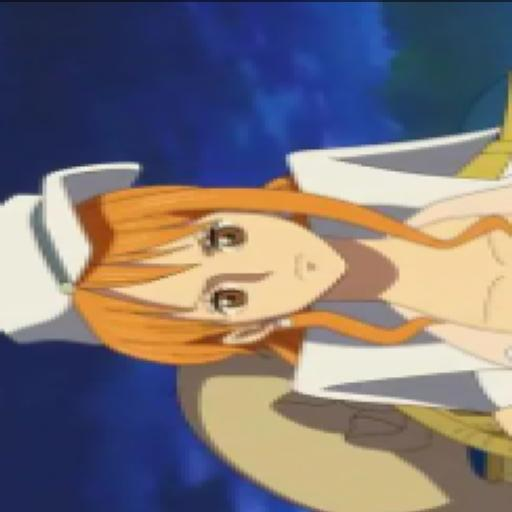Nami: (0, 67, 512, 461)
